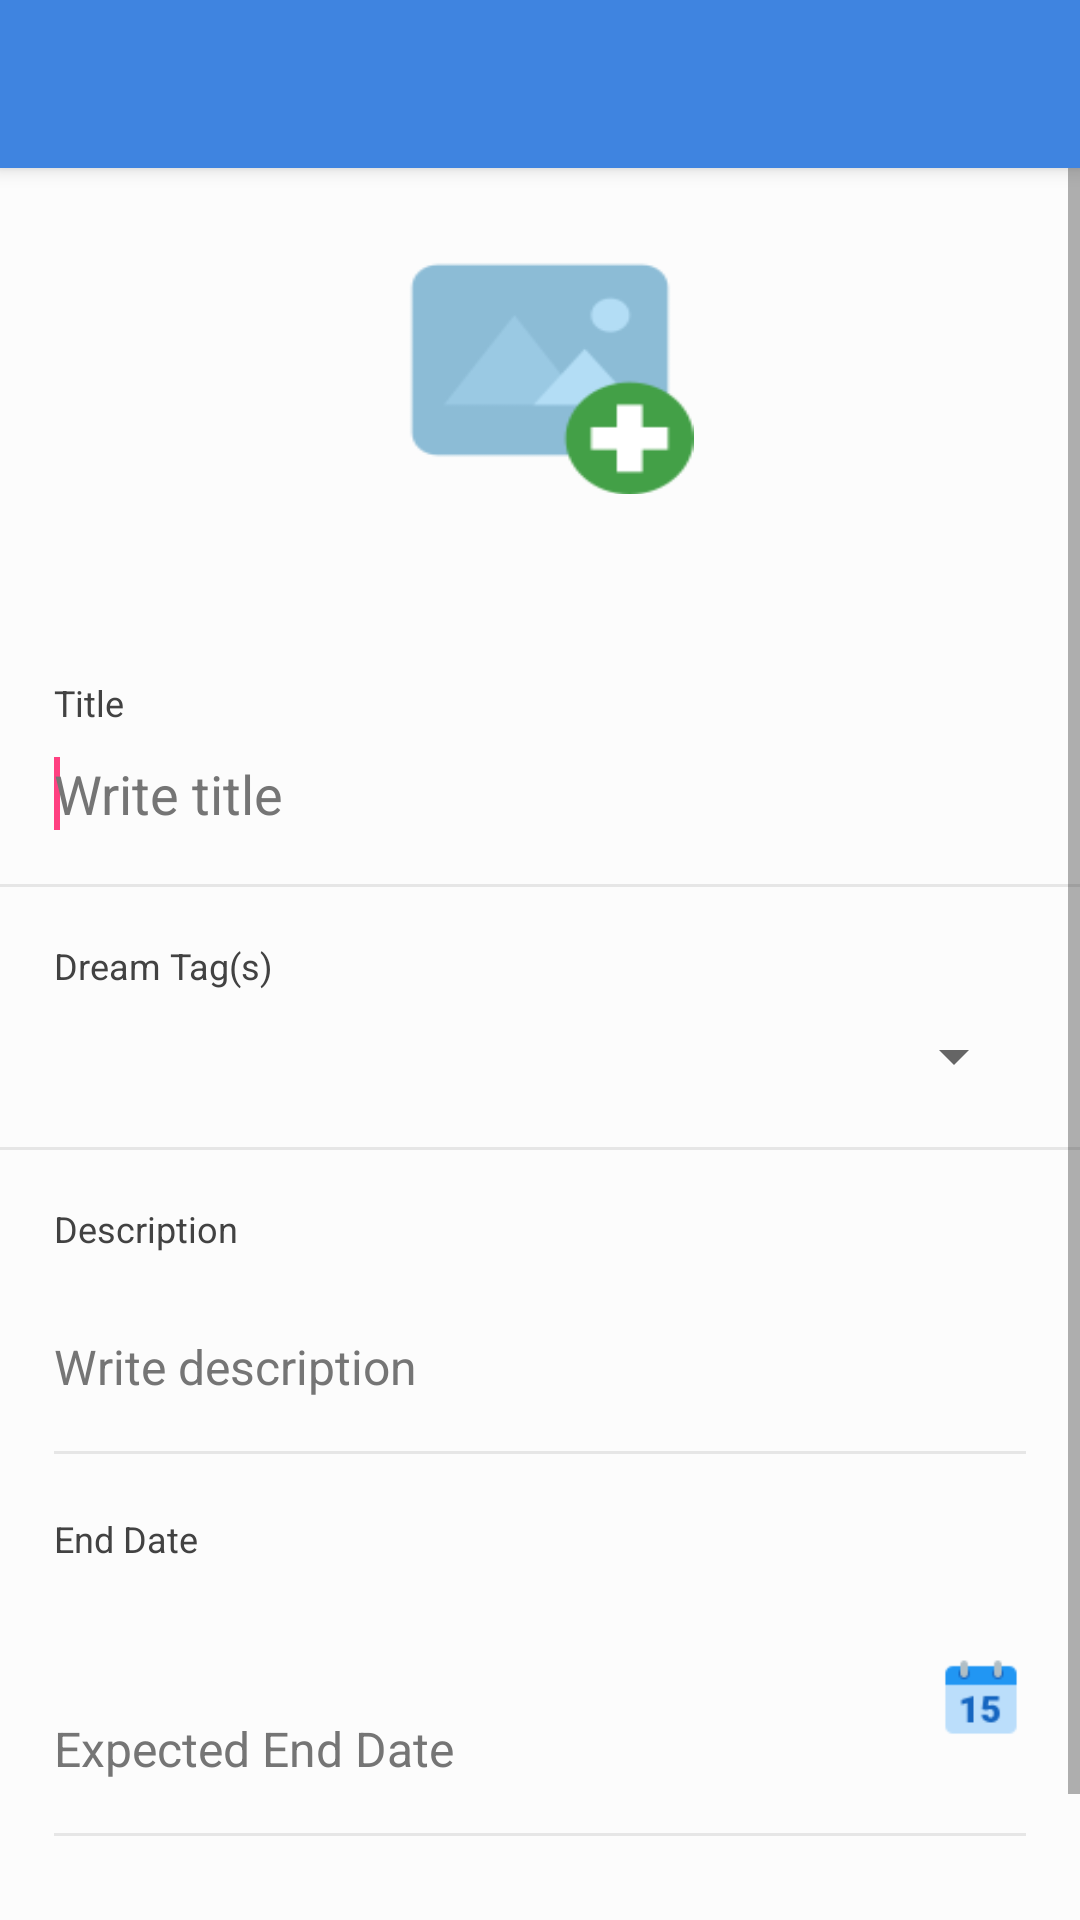

Icon click points for this 1080w x 1920h phone screenshot, format point (x, y):
calendar: point (981, 1697)
